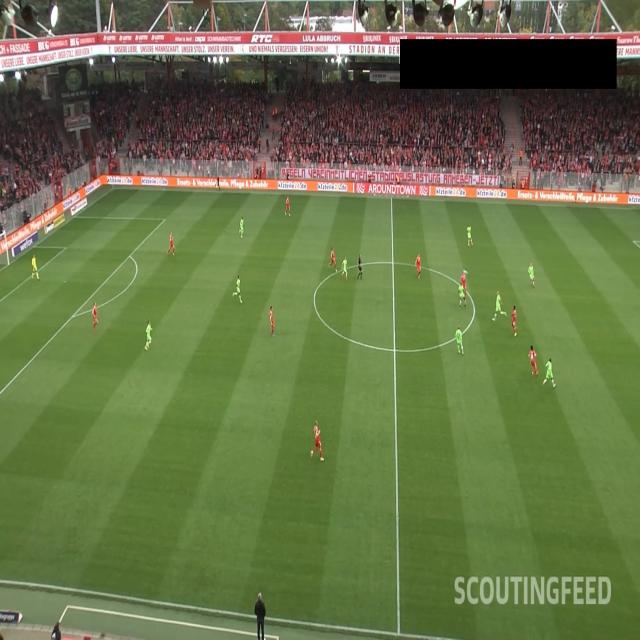ball: (463, 268, 468, 275)
